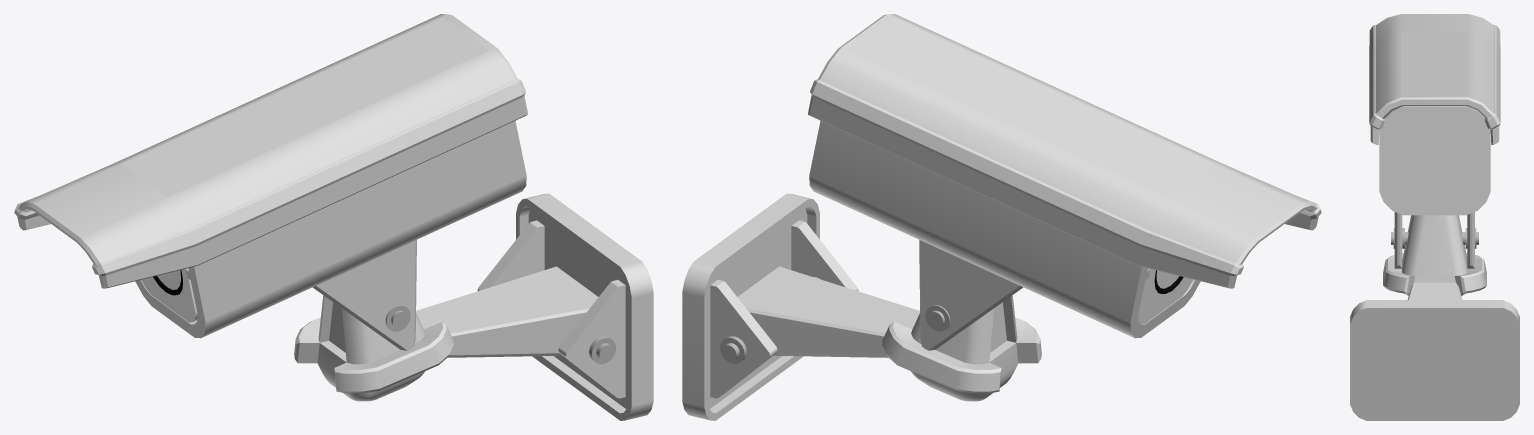
Rendered from obj_003_cam.fbx.
3 renders of one model, left to right at view 1: azimuth 30°, elevation 25°; view 2: azimuth 150°, elevation 25°; view 3: azimuth 270°, elevation 25°, orthographic. The views are drawn at different scales.
Parts seen in each view (by area): view 1: camera:group1polySurface2, camera:group1polySurface3, camera:group3pCube4, camera:group3pCube3, camera:pasted__group2grouppasted__pCube2, camera:pasted__pasted__pCube6pasted__group2group, camera:pasted__pCube5group3, camera:group3pCube5, camera:polySurface4group1, camera:group3pasted__pCylinder1; view 2: camera:group1polySurface2, camera:group1polySurface3, camera:group3pCube4, camera:group3pCube3, camera:pasted__group2grouppasted__pCube2, camera:pasted__group2grouppasted__pCube6, camera:group3pCube5, camera:pasted__pCube5group3, camera:polySurface4group1, camera:group3pasted__pCylinder1; view 3: camera:group3pCube4, camera:group1polySurface2, camera:group1polySurface3, camera:pasted__group2grouppasted__pCube2, camera:group3pCube3, camera:pasted__pasted__pCube6pasted__group2group, camera:pasted__group2grouppasted__pCube6, camera:pasted__group2grouppasted__pCylinder1.
Boxes of the visible parts, x1,y1,x2,y2 form: camera:group1polySurface2: (14, 14, 527, 288); camera:group1polySurface3: (135, 120, 526, 338); camera:group3pCube4: (516, 193, 653, 420); camera:group3pCube3: (416, 266, 598, 357); camera:pasted__group2grouppasted__pCube2: (294, 295, 453, 401); camera:pasted__pasted__pCube6pasted__group2group: (313, 239, 416, 350); camera:pasted__pCube5group3: (558, 280, 625, 398); camera:group3pCube5: (477, 220, 544, 290); camera:polySurface4group1: (141, 268, 197, 322); camera:group3pasted__pCylinder1: (516, 277, 615, 364); camera:group1polySurface2: (808, 14, 1321, 288); camera:group1polySurface3: (809, 120, 1200, 338); camera:group3pCube4: (682, 193, 819, 420); camera:group3pCube3: (737, 266, 919, 357); camera:pasted__group2grouppasted__pCube2: (882, 295, 1041, 401); camera:pasted__group2grouppasted__pCube6: (919, 240, 1022, 350); camera:group3pCube5: (710, 279, 777, 398); camera:pasted__pCube5group3: (791, 220, 858, 291); camera:polySurface4group1: (1138, 268, 1192, 324); camera:group3pasted__pCylinder1: (720, 276, 820, 363); camera:group3pCube4: (1350, 300, 1519, 420); camera:group1polySurface2: (1369, 14, 1500, 145); camera:group1polySurface3: (1379, 106, 1490, 215); camera:pasted__group2grouppasted__pCube2: (1383, 215, 1486, 295); camera:group3pCube3: (1407, 282, 1462, 299); camera:pasted__pasted__pCube6pasted__group2group: (1394, 212, 1402, 268); camera:pasted__group2grouppasted__pCube6: (1467, 212, 1474, 268); camera:pasted__group2grouppasted__pCylinder1: (1391, 228, 1478, 248).
Bounding box in the file's own units: 5.1 × 3.43 × 1.89.
4 materials, 1 textured.
